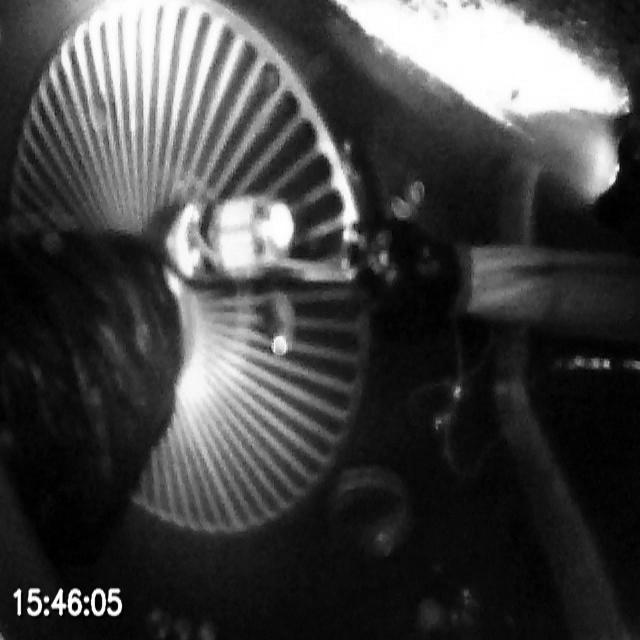head: (166, 195, 295, 282)
